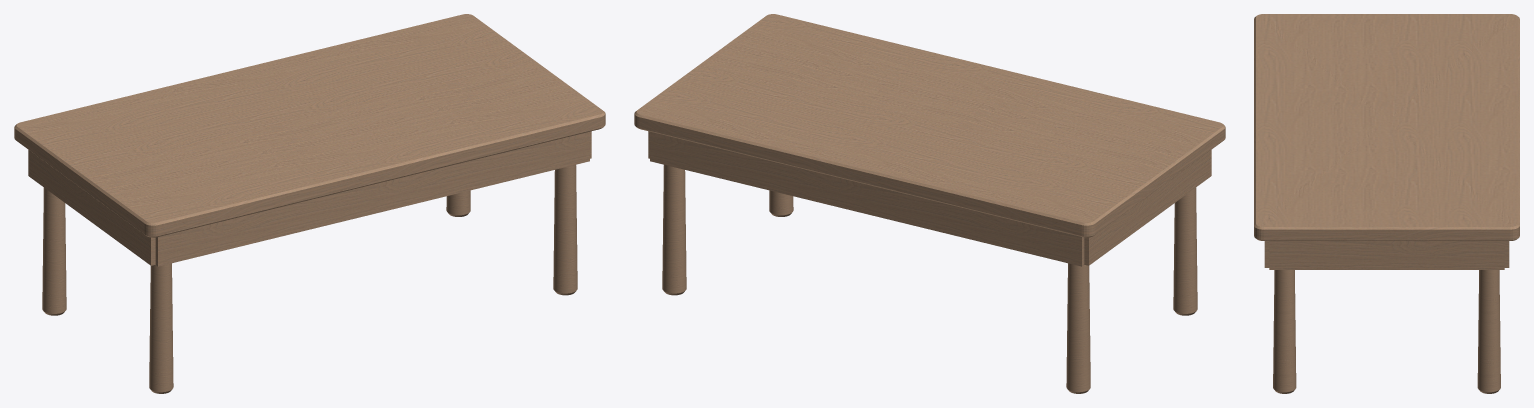
The model's file is furn_com_r_table_01.dae.
The picture shows the model from 3 angles, left to right: view 1: azimuth 30°, elevation 25°; view 2: azimuth 150°, elevation 25°; view 3: azimuth 270°, elevation 25°; orthographic projection. The views are drawn at different scales.
Parts seen in each view (by area): view 1: oak; view 2: oak; view 3: oak.
Boxes of the visible parts, box(x1,y1,x2,y2) form: oak: box(14, 14, 605, 393); oak: box(634, 14, 1225, 393); oak: box(1254, 14, 1519, 393).
Size of what is drawn, in the model's own units: 183 by 95.61 by 69.45.
